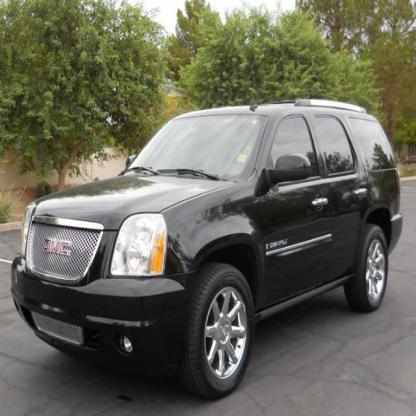car: (12, 100, 402, 395)
